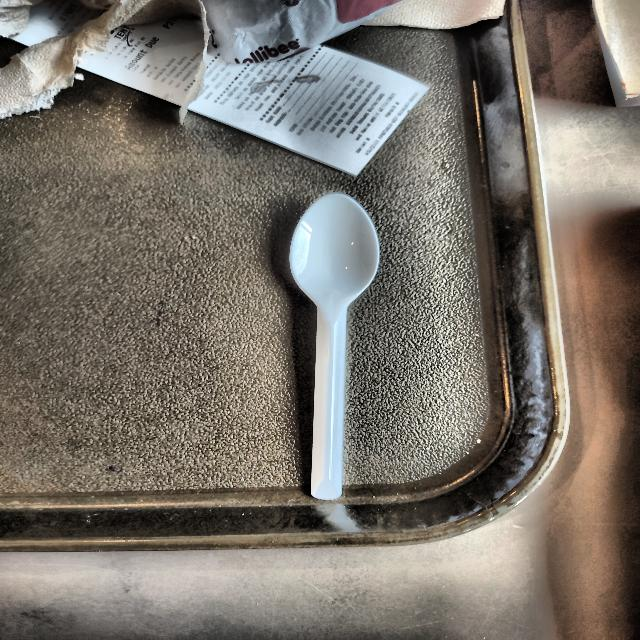plastic utensil: (290, 194, 380, 499)
